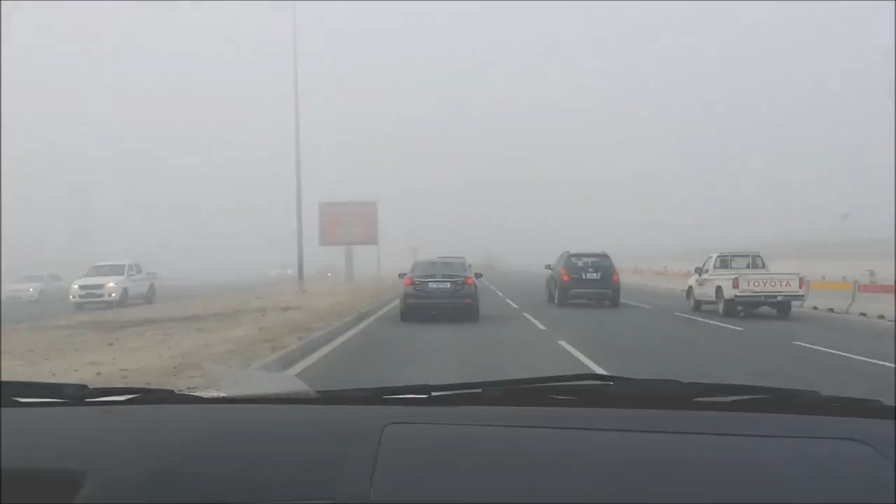car: (684, 250, 806, 321), (397, 258, 484, 322), (68, 259, 161, 312), (550, 249, 630, 310), (2, 270, 72, 304), (269, 261, 299, 281), (314, 262, 339, 281)
